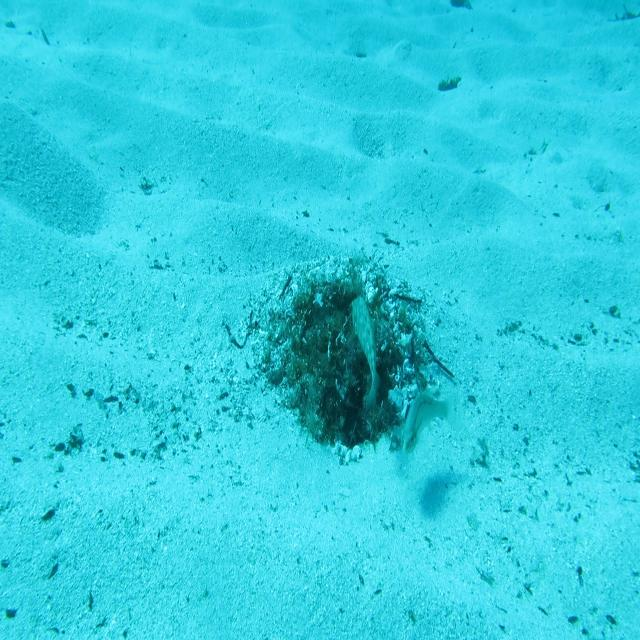MAN: (347, 293, 383, 414)
core_nest: (317, 290, 364, 345)
female: (400, 385, 467, 458)
nest: (246, 242, 452, 476)
vegetation: (438, 74, 463, 94)
